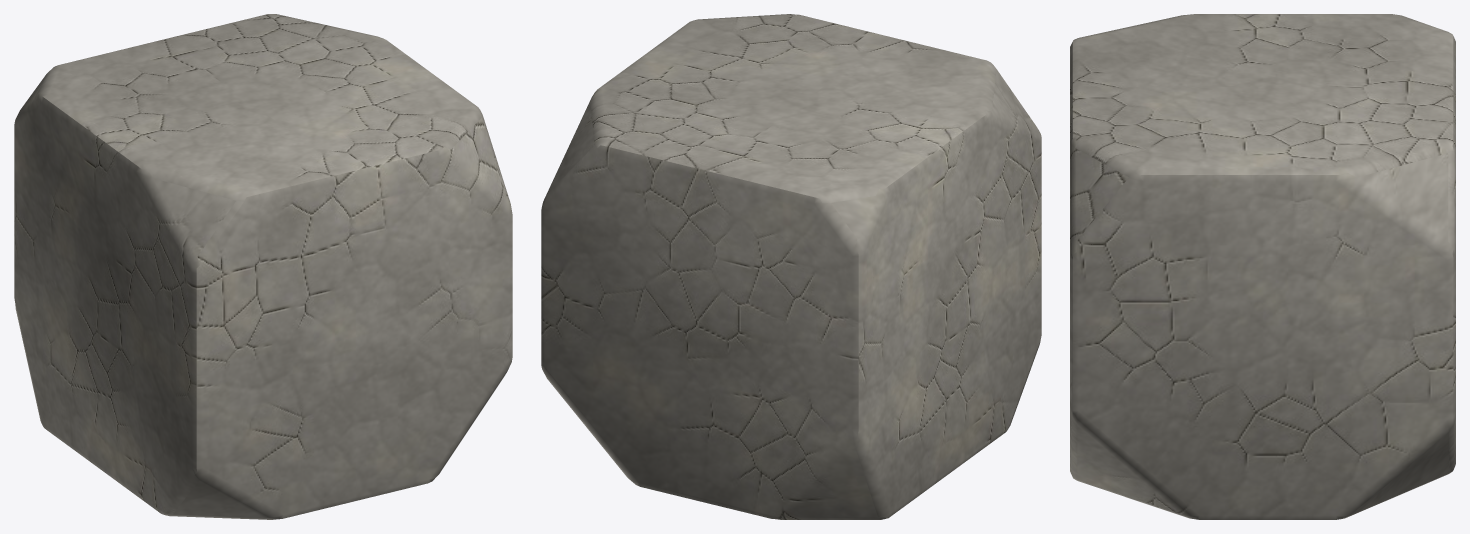
File: stone_boulder.glb
3 renders of one model, left to right at view 1: azimuth 30°, elevation 25°; view 2: azimuth 150°, elevation 25°; view 3: azimuth 270°, elevation 25°, orthographic. The views are drawn at different scales.
Visible parts, largest first — view 1: StoneBoulder; view 2: StoneBoulder; view 3: StoneBoulder.
Part boxes in pixels (x1=…): StoneBoulder: x1=14, y1=14, x2=512, y2=519; StoneBoulder: x1=541, y1=14, x2=1041, y2=519; StoneBoulder: x1=1070, y1=14, x2=1455, y2=519.
Bounding box in the file's own units: 1 × 1 × 1.
Materials: 1 (1 with a texture image).
